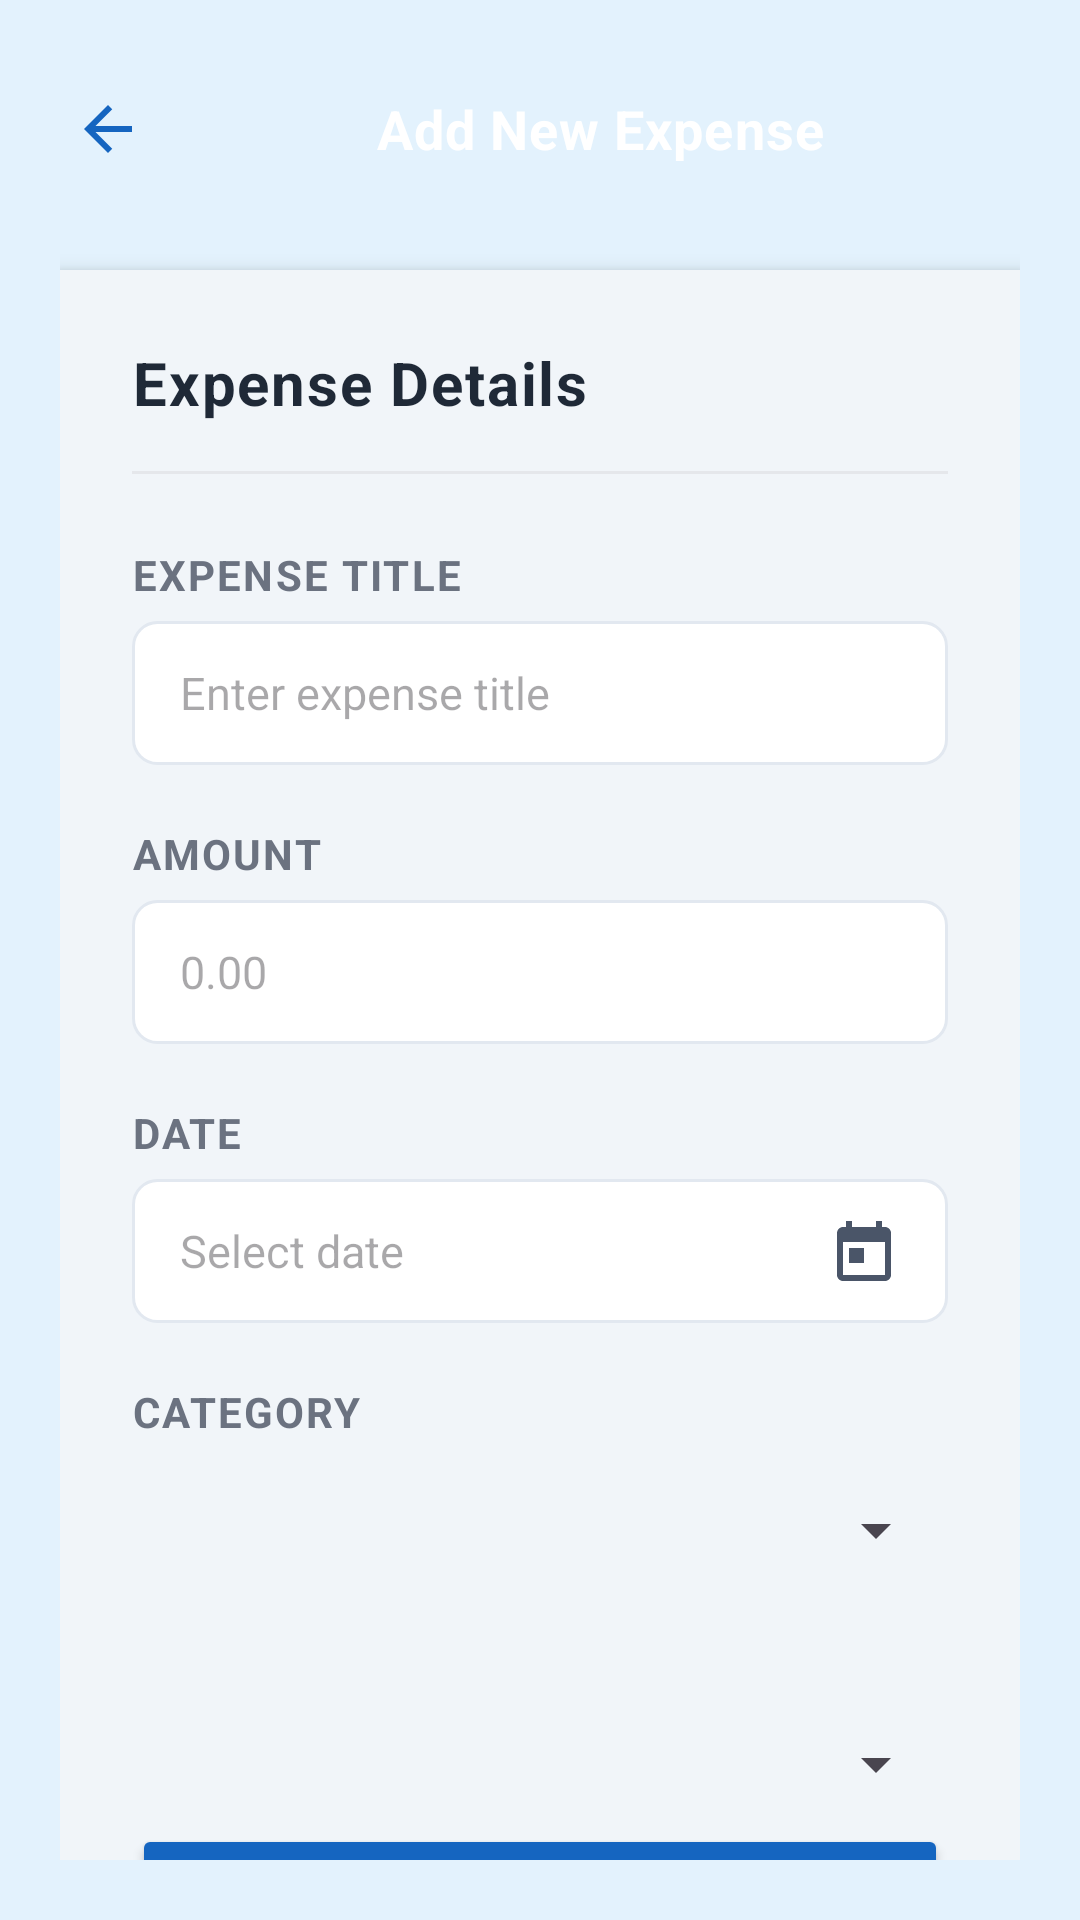

Screen size 1080 × 1920. Icon name, then its center in pixels as point (x, y):
arrow back: point (108, 129)
